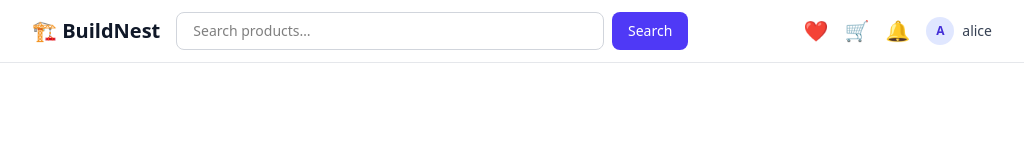
Test case: Navbar › shows the username and an account dropdown when authenticated
This screenshot has width=1024, height=161.
expect the text "alice" is shown: met, box [962,21,992,41]
What coordinates should you click on to do the following:
click the button "A alice"
I would click on:
 (959, 31)
Its box is [926,17,992,45].
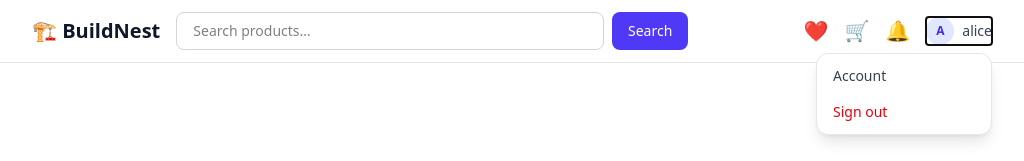
expect the link "Account" is shown: met, box [833,66,886,85]
expect the button "Sign out" is shown: met, box [817,94,991,130]
